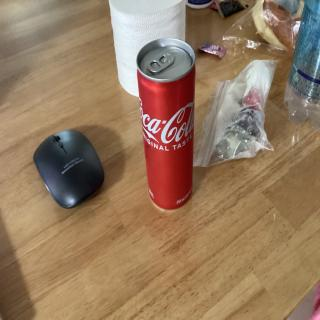cocacola: (133, 35, 203, 219)
